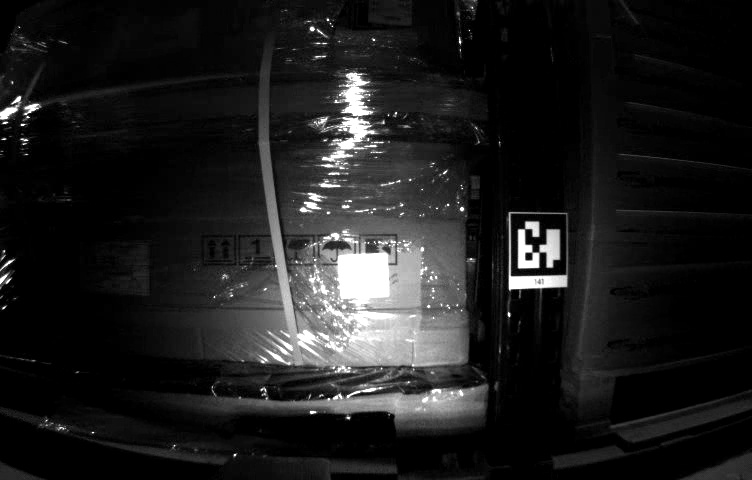True Barcode: (336, 254, 387, 298)
